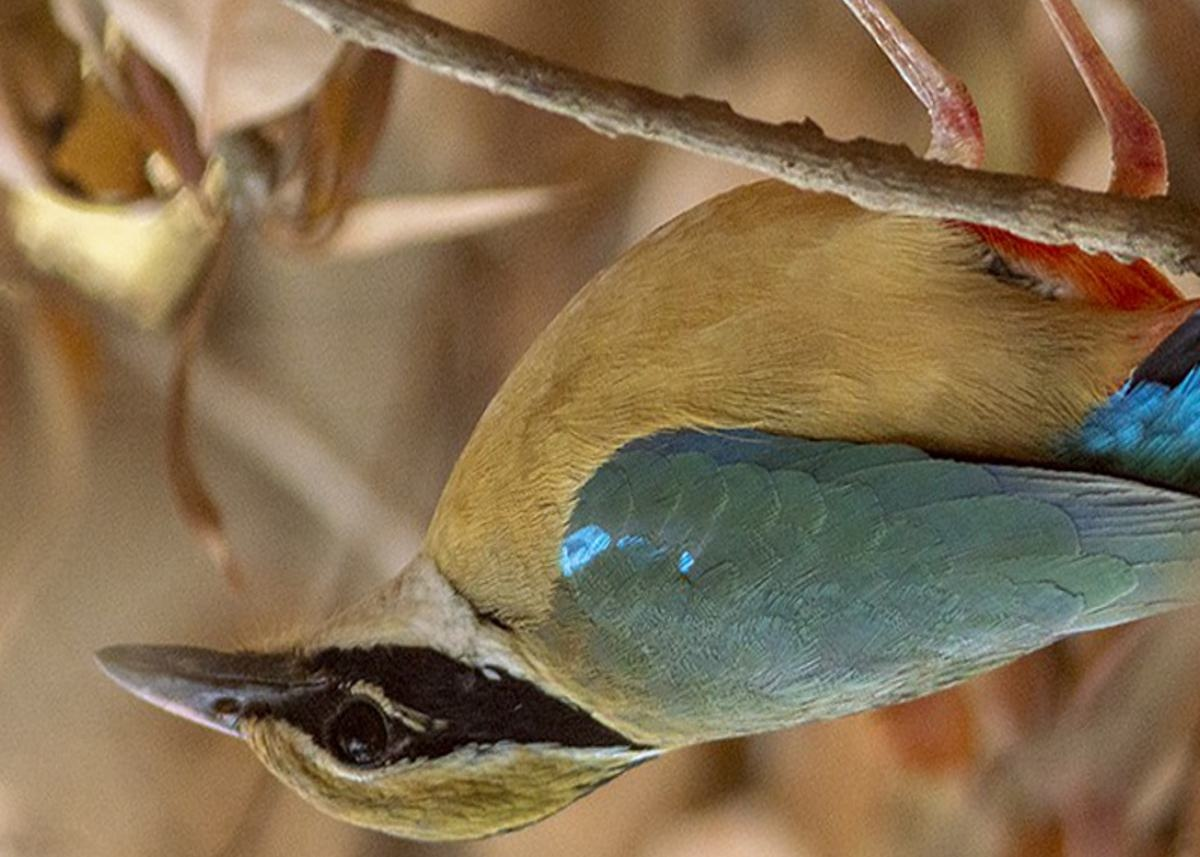pitta: (110, 98, 1200, 821)
